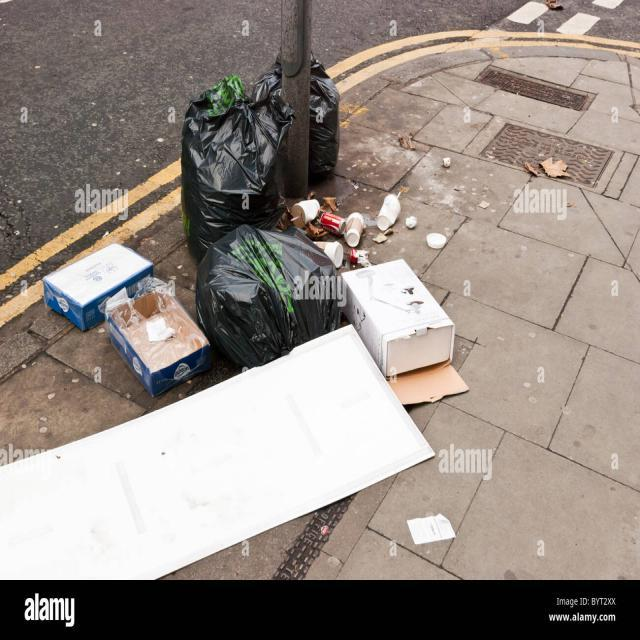high trash: (0, 55, 476, 581)
less trash: (408, 515, 455, 543), (519, 156, 572, 178)
